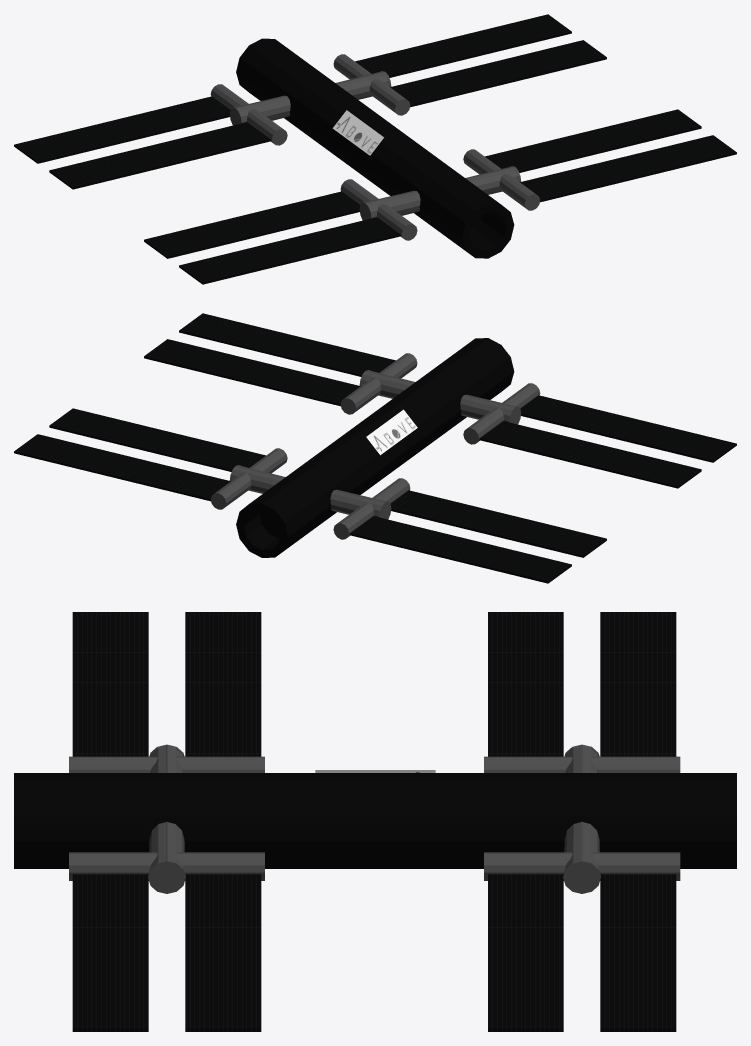
File: SateliteFirst.fbx
The picture shows the model from 3 angles, top to bottom: view 1: azimuth 30°, elevation 25°; view 2: azimuth 150°, elevation 25°; view 3: azimuth 270°, elevation 25°; orthographic projection. The views are drawn at different scales.
Visible parts, largest first — view 1: Cylinder.001, Above Logo Transparent.002; view 2: Cylinder.001, Above Logo Transparent.002; view 3: Cylinder.001.
Boxes of the visible parts, x1,y1,x2,y2 form: Cylinder.001: (14,14,736,284); Above Logo Transparent.002: (332,110,383,155); Cylinder.001: (14,313,736,583); Above Logo Transparent.002: (366,409,417,455); Cylinder.001: (14,612,736,1031).
Size of the model in its own units: 2050 by 200 by 1503.
